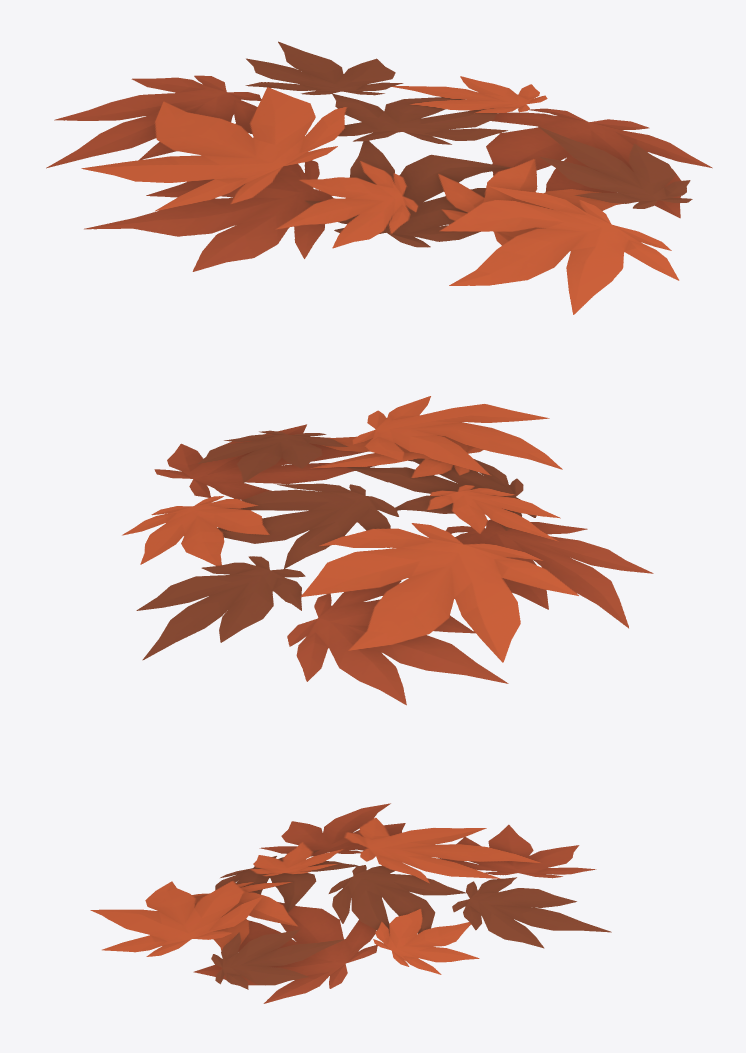
The model's file is SM_Env_Ginko_Small_03.fbx.
3 views of the same model, one above another, from view 1: azimuth 30°, elevation 25°; view 2: azimuth 150°, elevation 25°; view 3: azimuth 270°, elevation 25° (orthographic). The views are drawn at different scales.
Parts seen in each view (by area): view 1: SM_Env_Ginko_Small_03; view 2: SM_Env_Ginko_Small_03; view 3: SM_Env_Ginko_Small_03.
Boxes of the visible parts, box(x1,y1,x2,y2) form: SM_Env_Ginko_Small_03: box(46, 41, 712, 314); SM_Env_Ginko_Small_03: box(122, 396, 653, 705); SM_Env_Ginko_Small_03: box(90, 803, 611, 1003).
Size of the model in its own units: 128 by 9.25 by 149.
